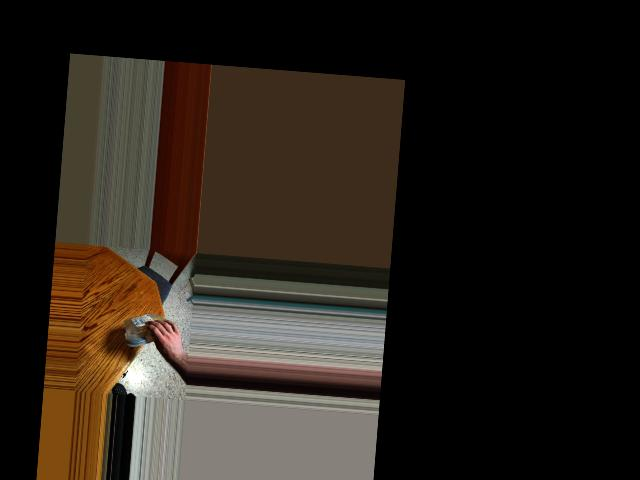cheese: (125, 310, 166, 347)
